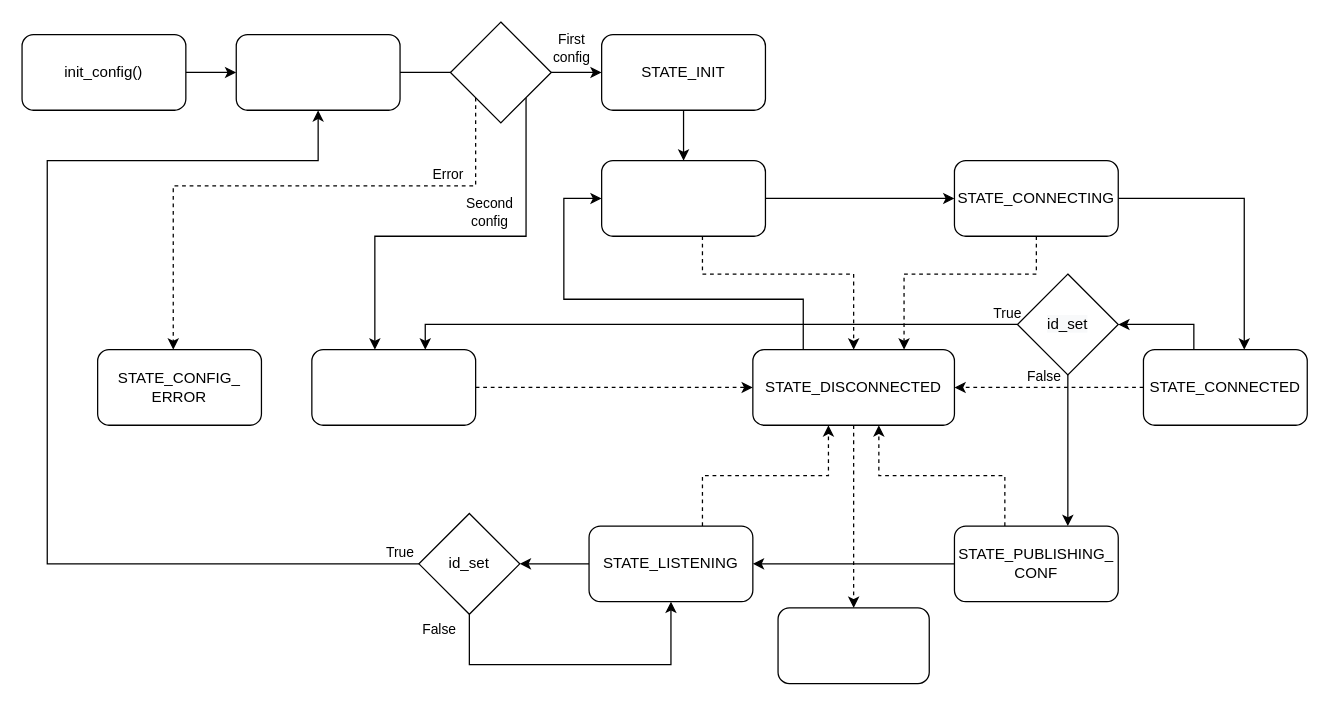
Image size: 1329x706. Some labels were removed from this diagram. Each missing label, with the centre of its shape:
"Config result" belongs at (500,72).
"STATE_ERROR" belongs at (853,645).
"STATE_PUBLISHING" belongs at (393,386).
"STATE_REGISTERED" belongs at (682,197).
"update_config()" belongs at (317,71).
